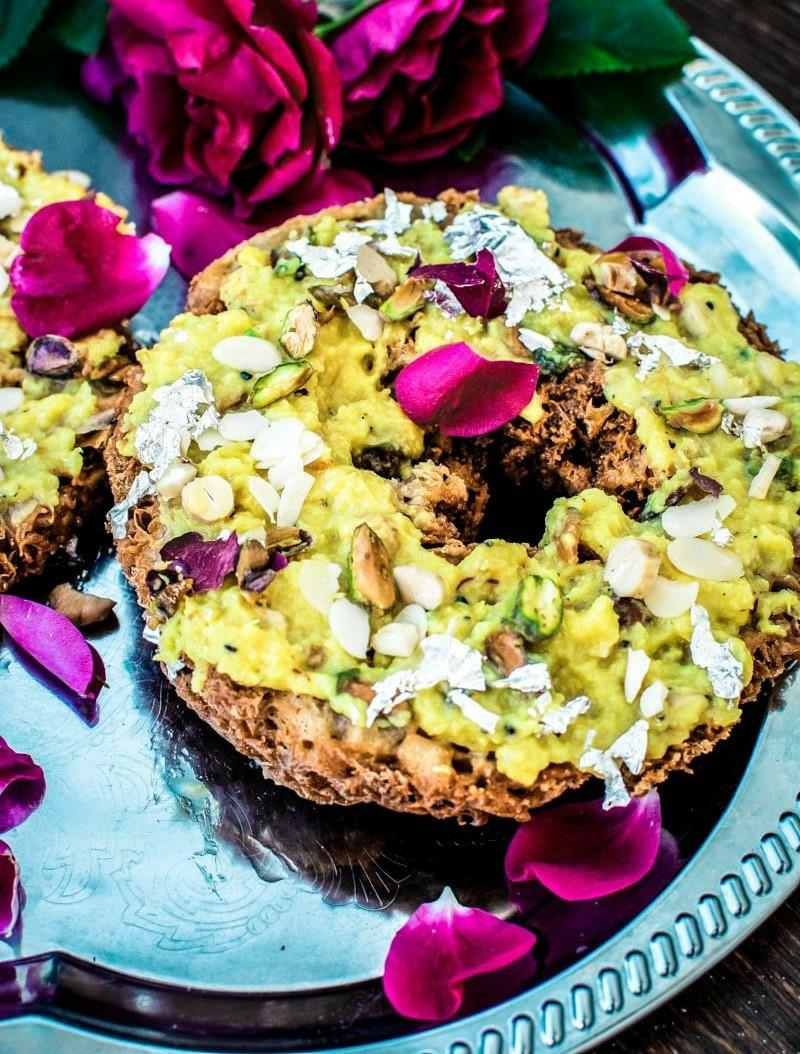Ghevar: (107, 185, 798, 826), (1, 125, 141, 577)
